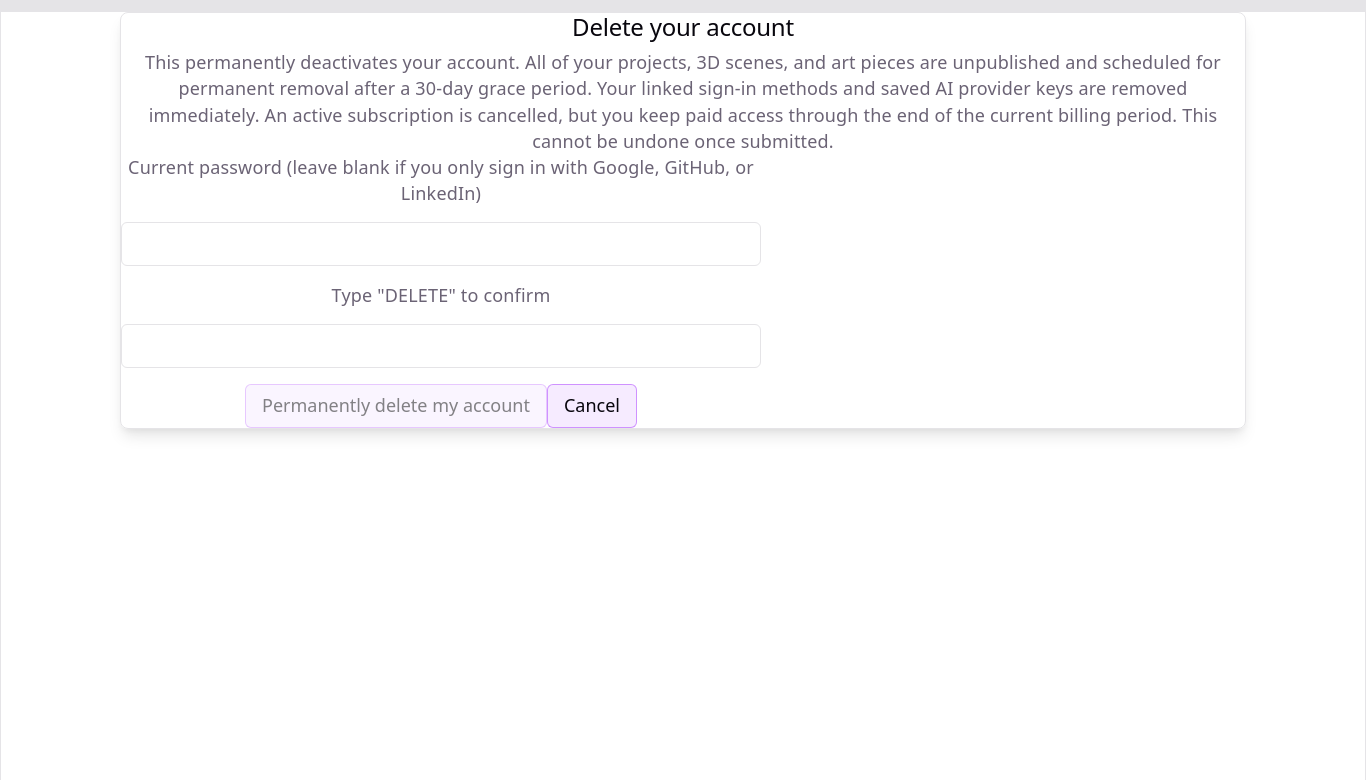
it: AccountDeletion › keeps the submit button disabled until the exact confirmation text is typed
expect the button with test id "account-deletion-submit" is disabled: met, box top-left (245, 384), bottom-right (547, 428)
In the field labelled "Type \"DELETE\" to confirm": [441, 346] box top-left (121, 324), bottom-right (761, 368), type "not it"
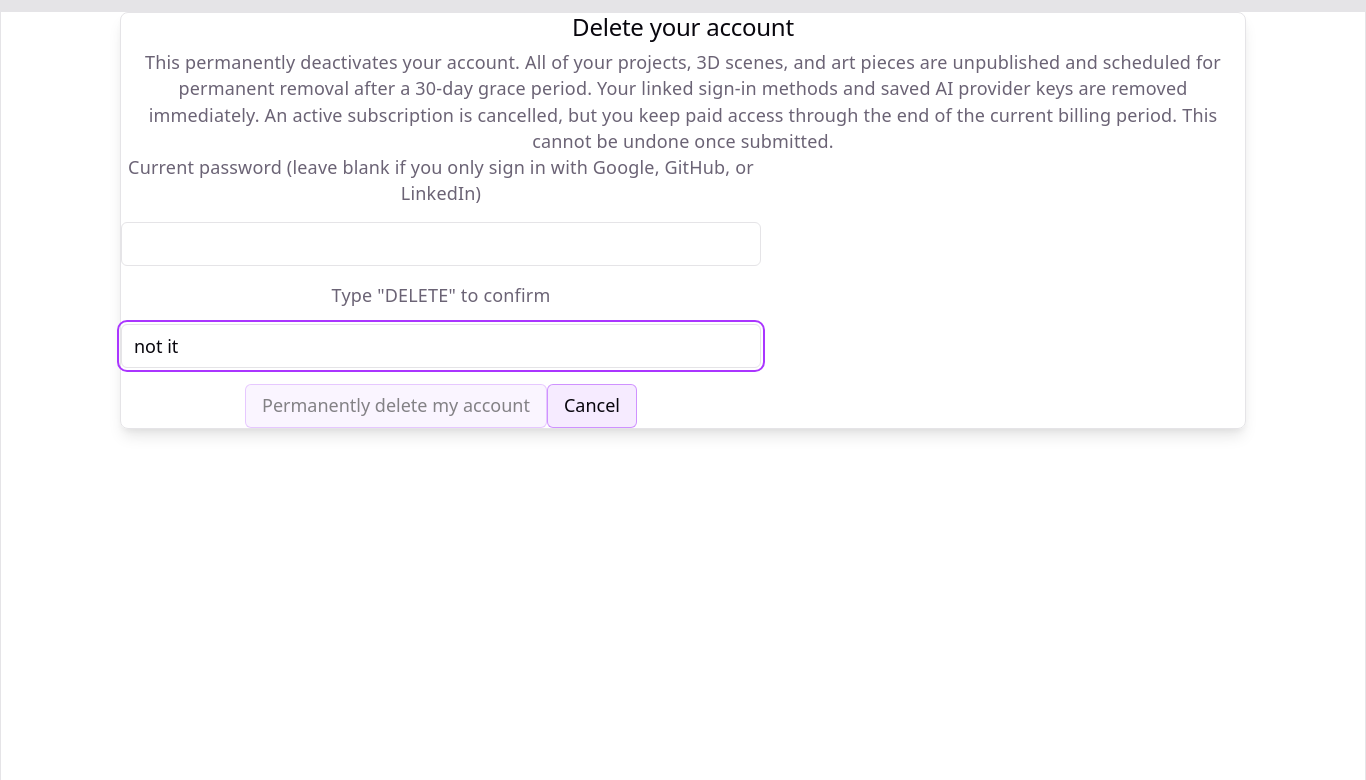
expect the button with test id "account-deletion-submit" is disabled: met, box top-left (245, 384), bottom-right (547, 428)
Replace the text in the field labelled "Type \"DELETE\" to confirm" with "DELETE": [441, 346] box top-left (121, 324), bottom-right (761, 368)
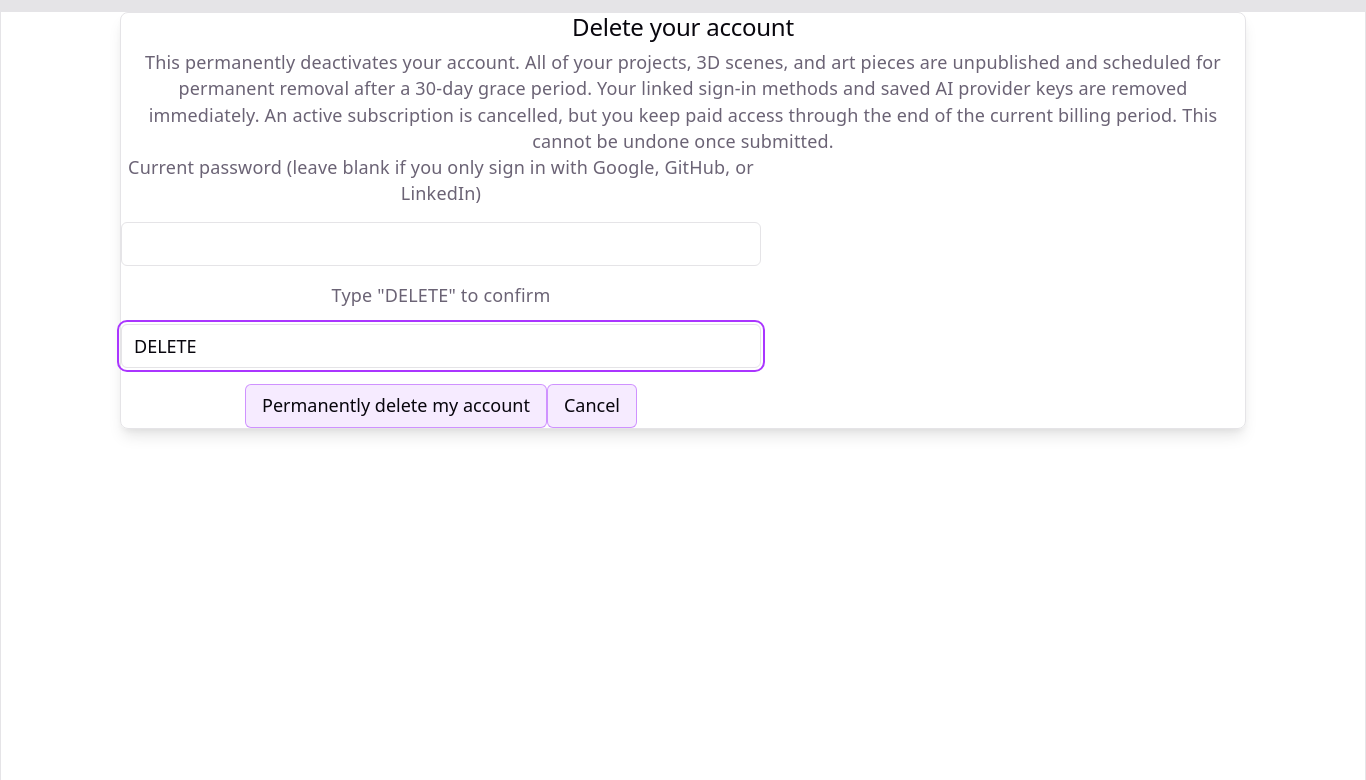
expect the button with test id "account-deletion-submit" is enabled: met, box top-left (245, 384), bottom-right (547, 428)
